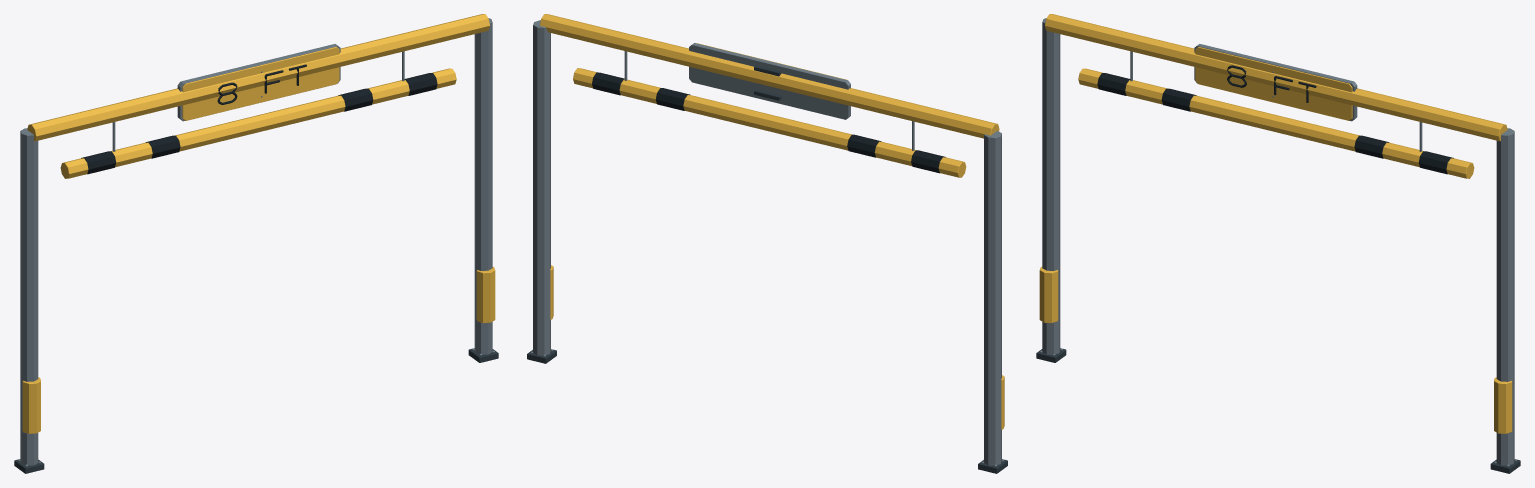
The model's file is b02_parking_height_clearance_gantry.glb.
3 renders of one model, left to right at view 1: azimuth 30°, elevation 25°; view 2: azimuth 150°, elevation 25°; view 3: azimuth 330°, elevation 25°, orthographic.
Parts seen in each view (by area): view 1: b02_parking_height_clearance_gantry; view 2: b02_parking_height_clearance_gantry; view 3: b02_parking_height_clearance_gantry.
Boxes of the visible parts, bbox=[...] form: b02_parking_height_clearance_gantry: bbox=[14, 14, 498, 473]; b02_parking_height_clearance_gantry: bbox=[527, 14, 1007, 473]; b02_parking_height_clearance_gantry: bbox=[1036, 14, 1520, 473].
Bounding box in the file's own units: 4.42 × 3.13 × 0.205.
